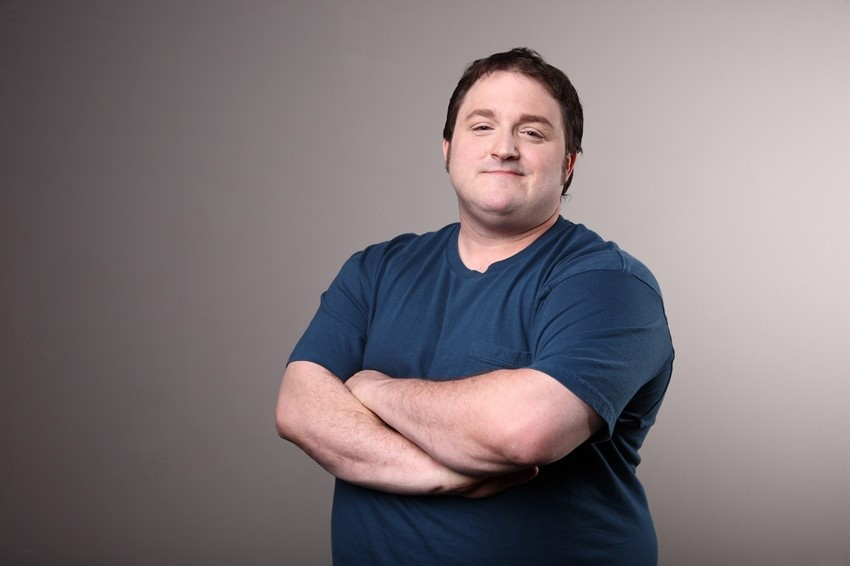face_no_mask: (444, 49, 582, 216)
